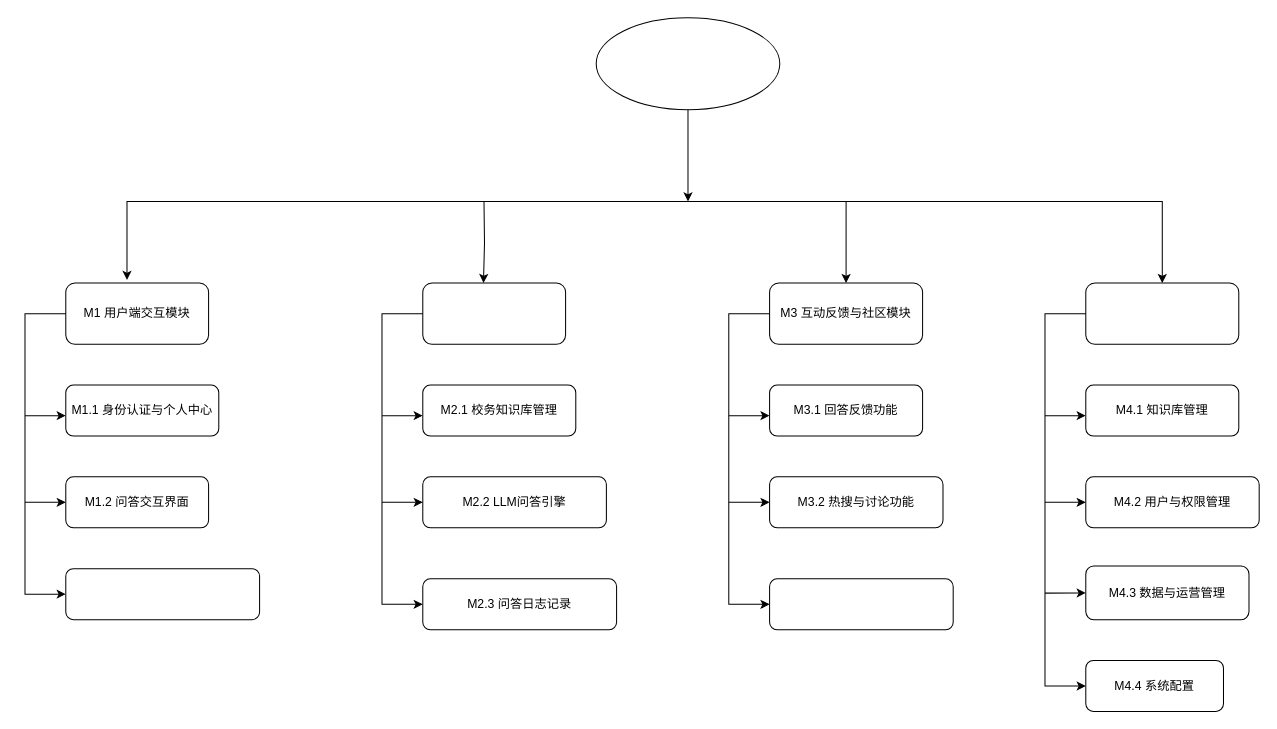
Image size: 1277x729. Some labels were removed from this diagram. Each missing label, with the centre of its shape:
M1.3 热搜与发现页面: (x=162, y=594)
M2 智能问答核心模块: (x=494, y=313)
M3.3 聊天记录管理: (x=861, y=604)
M4 管理员后台模块: (x=1162, y=313)
校务问答机器人系统开发项目: (x=687, y=63)
